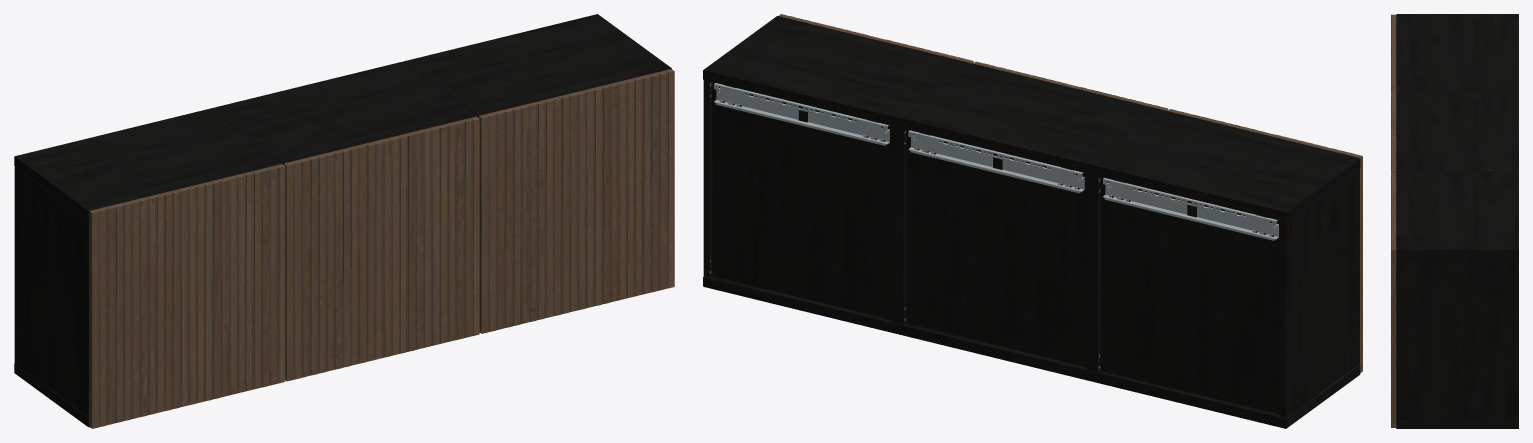
3 views of the same model, side by side, from view 1: azimuth 30°, elevation 25°; view 2: azimuth 150°, elevation 25°; view 3: azimuth 270°, elevation 25° (orthographic). The views are drawn at different scales.
Visible parts, largest first — view 1: 59435623_wall_mounted_cabinet_combination:20; view 2: 59435623_wall_mounted_cabinet_combination:20; view 3: 59435623_wall_mounted_cabinet_combination:20.
Part boxes in pixels (bbox=[...]): 59435623_wall_mounted_cabinet_combination:20: bbox=[14, 14, 674, 428]; 59435623_wall_mounted_cabinet_combination:20: bbox=[703, 14, 1362, 428]; 59435623_wall_mounted_cabinet_combination:20: bbox=[1391, 14, 1518, 428].
Size of the model in its own units: 1.8 by 0.64 by 0.4131.
Materials: 1 (1 with a texture image).
